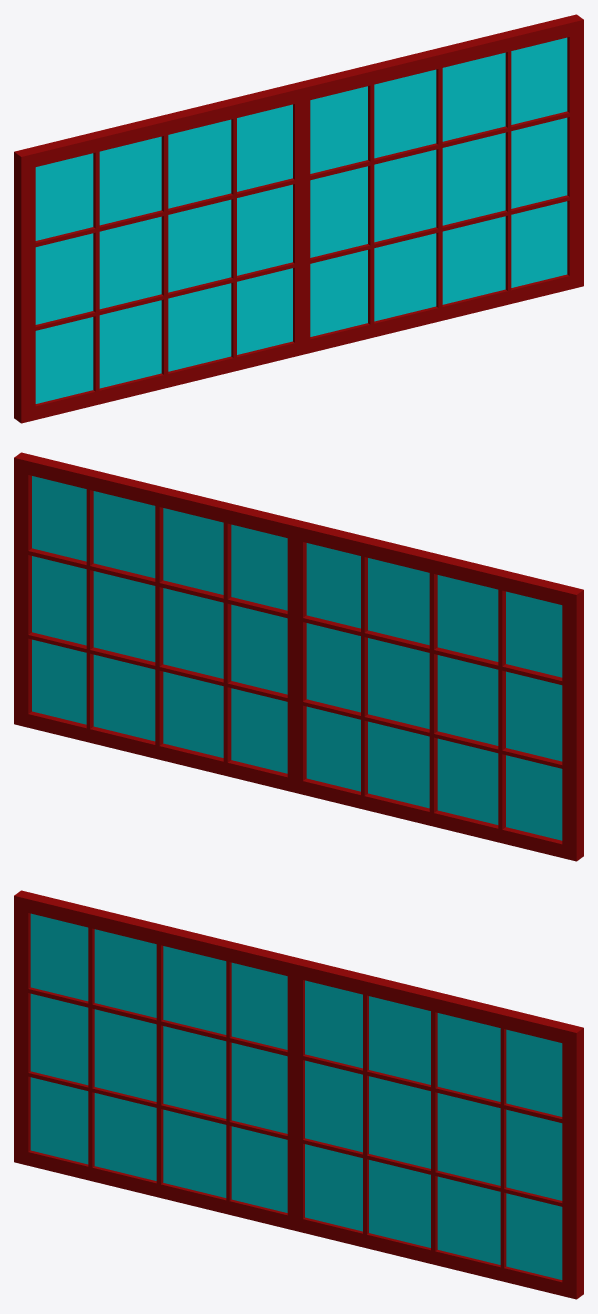
The model's file is L_Window.fbx.
The picture shows the model from 3 angles, top to bottom: view 1: azimuth 30°, elevation 25°; view 2: azimuth 150°, elevation 25°; view 3: azimuth 330°, elevation 25°; orthographic projection.
Visible parts, largest first — view 1: L_Window; view 2: L_Window; view 3: L_Window.
Boxes of the visible parts, x1,y1,x2,y2 form: L_Window: [14, 14, 583, 423]; L_Window: [14, 452, 583, 861]; L_Window: [14, 890, 583, 1299].
Size of the model in its own units: 286 by 130 by 6.44.
